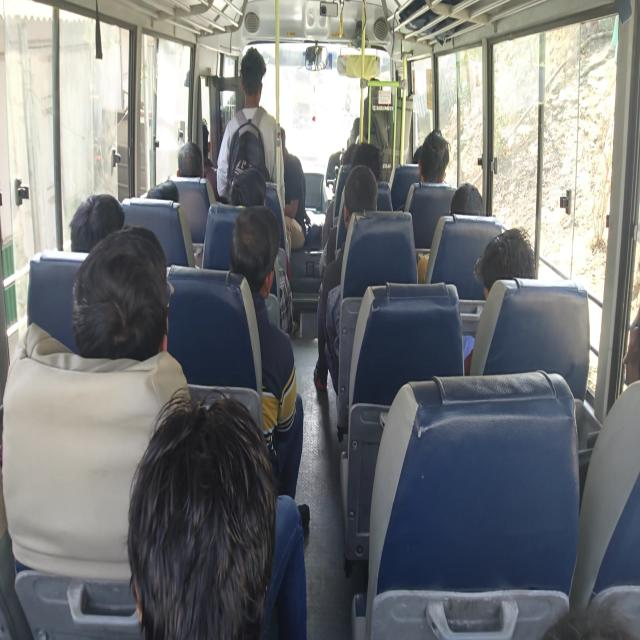person: (127, 389, 308, 639), (228, 205, 310, 534), (314, 164, 378, 394), (72, 225, 170, 362), (216, 47, 286, 209), (229, 166, 295, 335), (462, 226, 536, 374), (417, 182, 483, 283), (321, 141, 382, 247), (68, 192, 124, 252), (280, 126, 306, 249), (417, 128, 450, 185), (229, 166, 267, 207), (622, 303, 639, 385), (350, 142, 381, 180), (449, 182, 483, 216), (176, 141, 203, 177), (146, 179, 180, 201)
